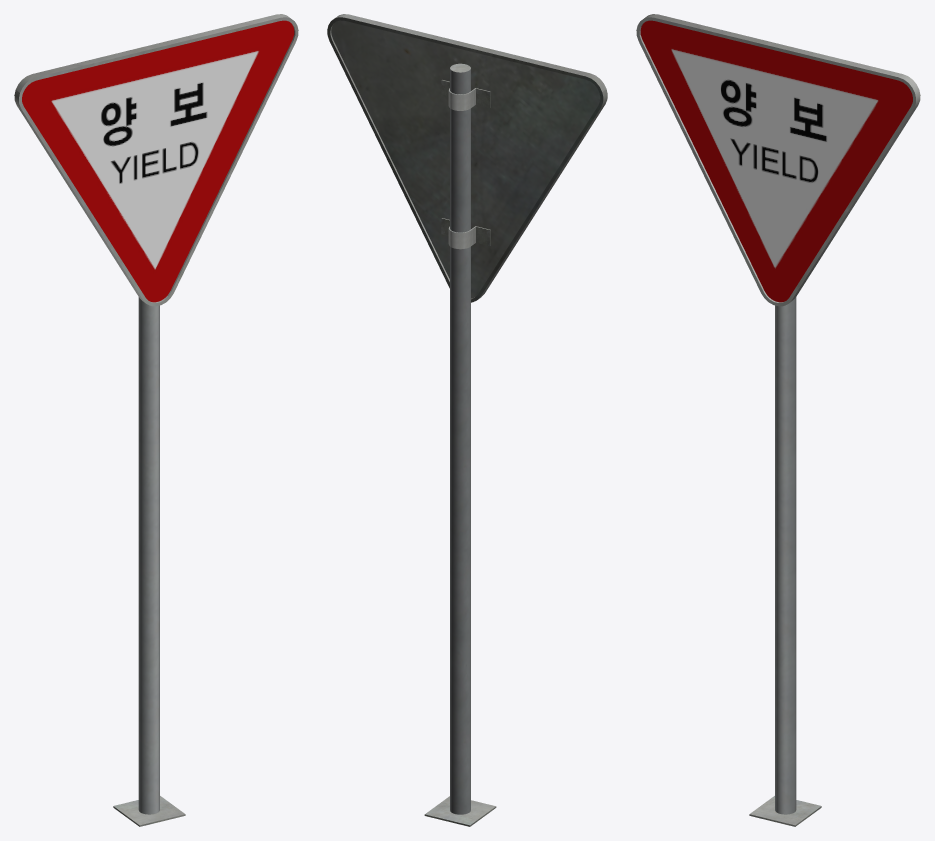
3 renders of one model, left to right at view 1: azimuth 30°, elevation 25°; view 2: azimuth 150°, elevation 25°; view 3: azimuth 330°, elevation 25°, orthographic.
Visible parts, largest first — view 1: MainBuilding; view 2: MainBuilding; view 3: MainBuilding.
Part boxes in pixels (box(x1,y1,x2,y2)): MainBuilding: box(14, 14, 298, 826); MainBuilding: box(327, 14, 607, 826); MainBuilding: box(636, 14, 920, 826).
Bounding box in the file's own units: 0.9151 × 2.41 × 0.15.
1 material, 1 textured.
